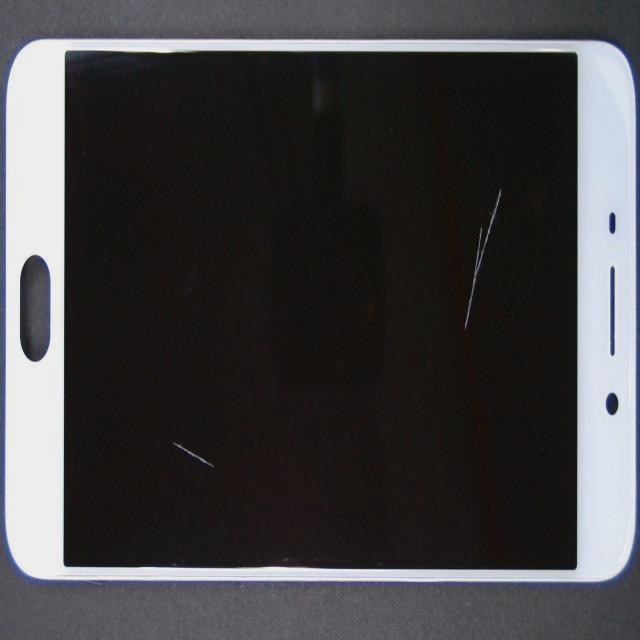scratch: (253, 154, 640, 336), (133, 252, 311, 640)
